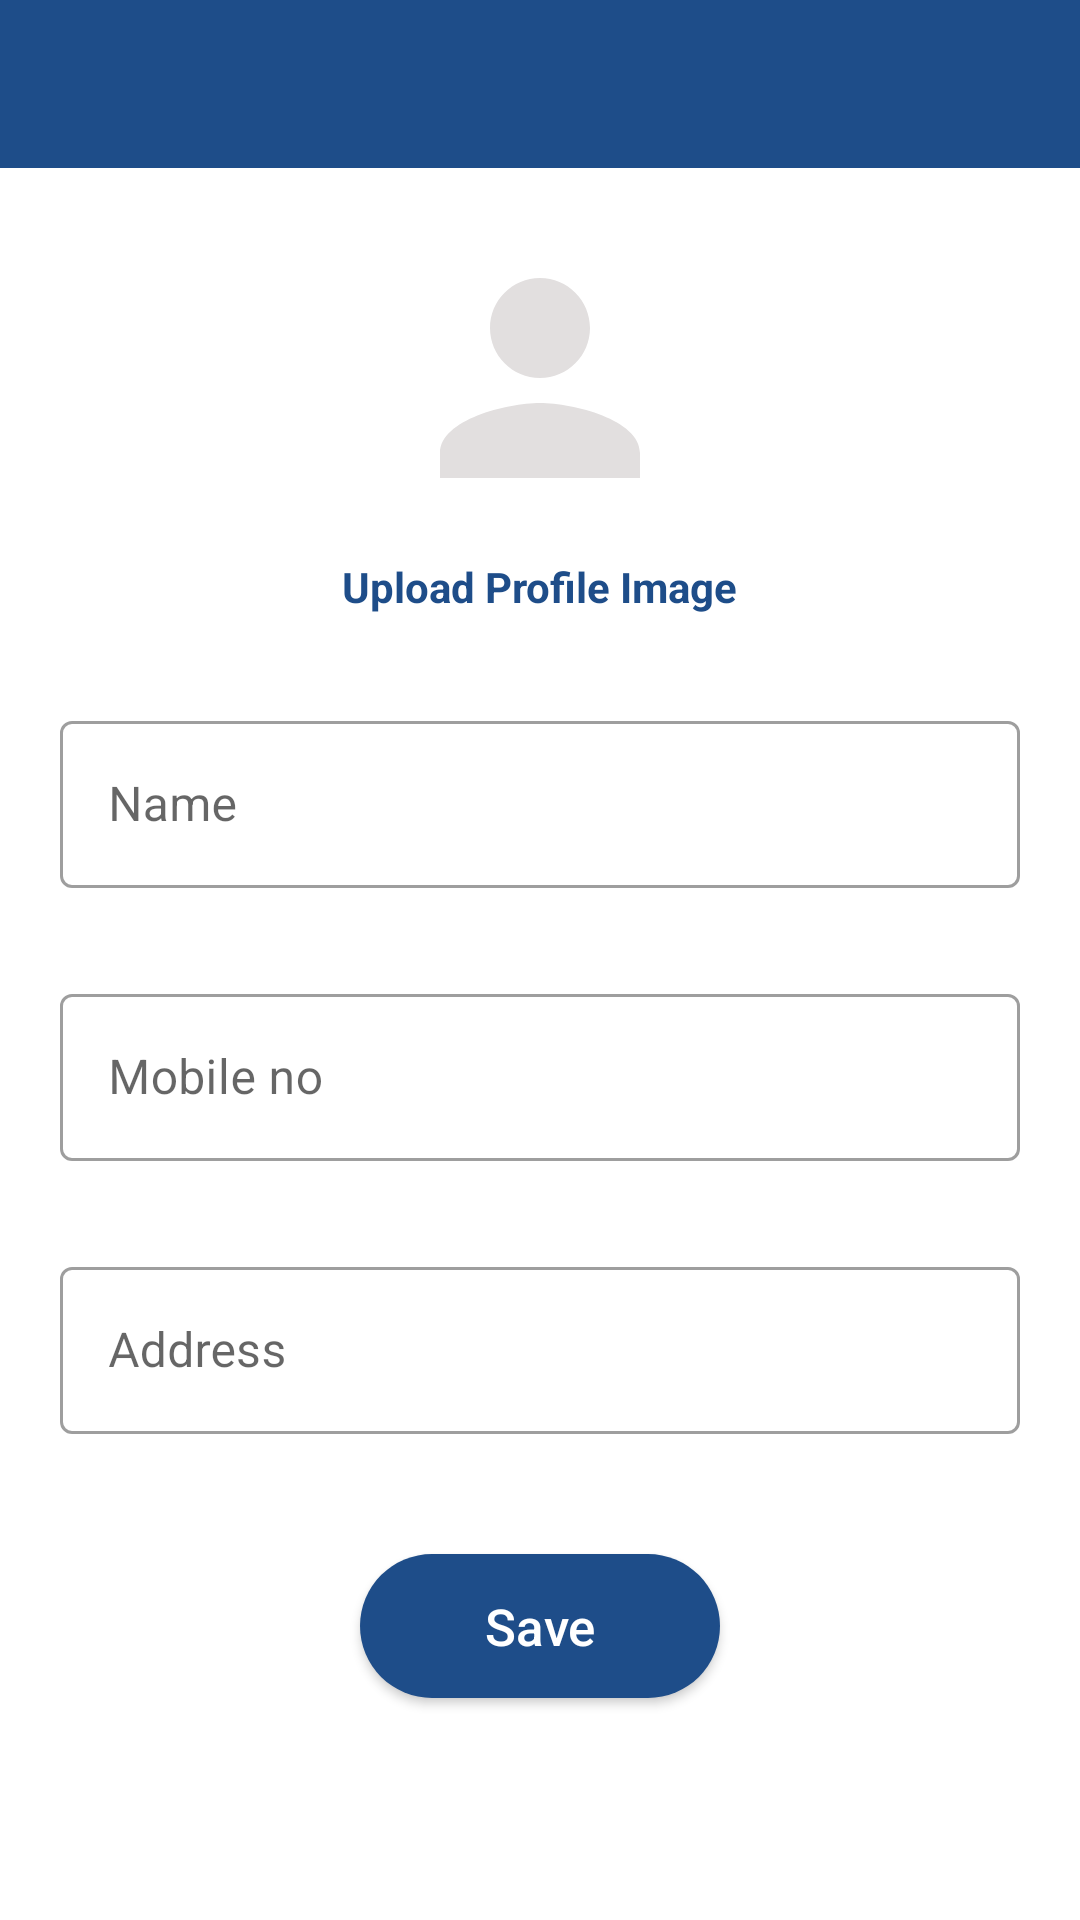

Where icons sit on this 1080 × 1920 app screen, as [x1,y1,x2,y2]:
empty profile: [440,278,640,478]
